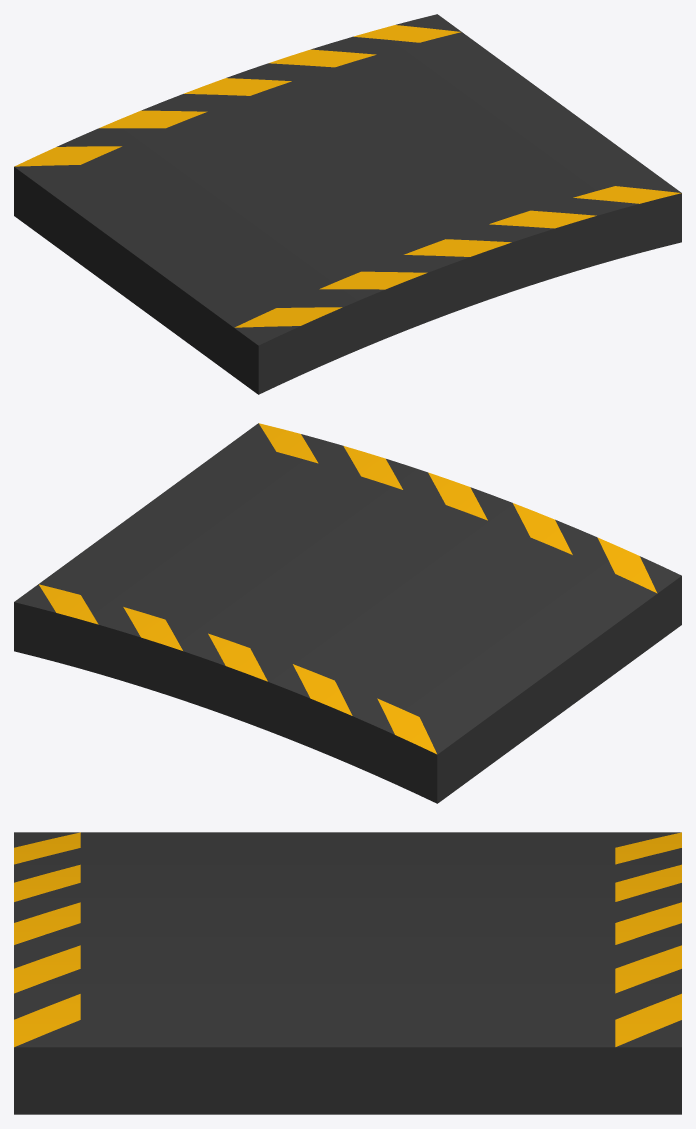
3 views of the same model, one above another, from view 1: azimuth 30°, elevation 25°; view 2: azimuth 150°, elevation 25°; view 3: azimuth 270°, elevation 25° (orthographic). The views are drawn at different scales.
Visible parts, largest first — view 1: e1; view 2: e1; view 3: e1.
Boxes of the visible parts, x1,y1,x2,y2 form: e1: (14, 14, 681, 394); e1: (14, 423, 681, 803); e1: (14, 832, 681, 1114).
Bounding box in the file's own units: 9 × 2 × 9.
